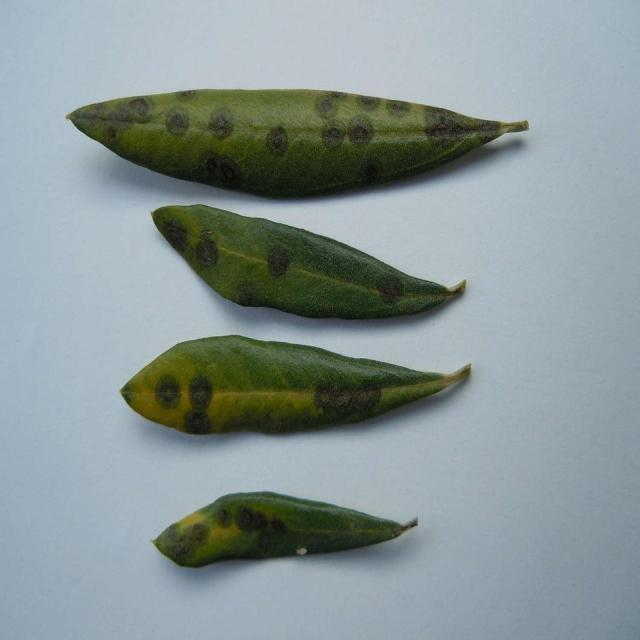OlivePeacockSpot: (67, 89, 529, 198), (152, 204, 466, 319), (121, 335, 472, 434), (152, 492, 418, 567)
